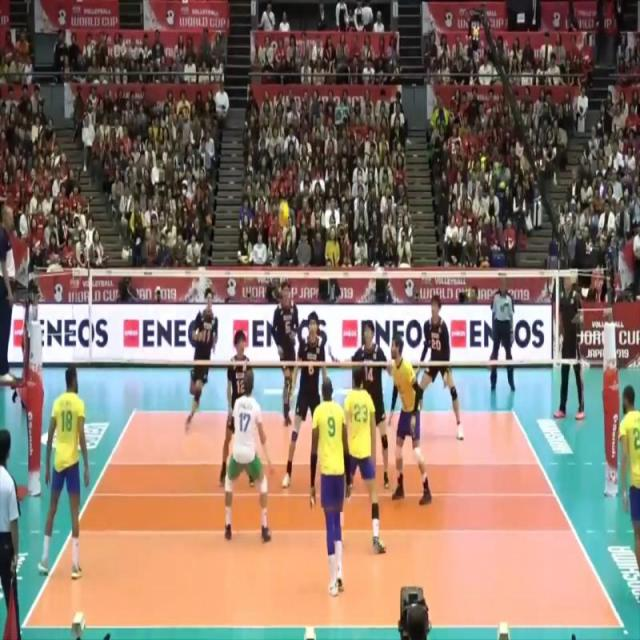volleyball: (275, 194, 294, 230)
